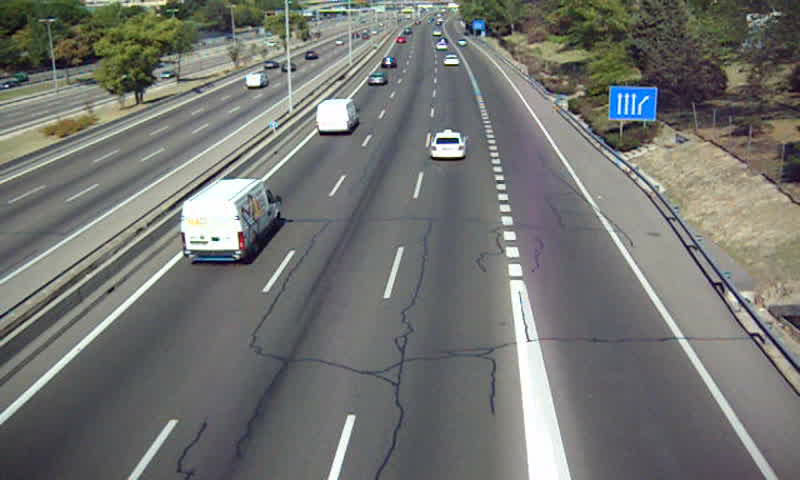car: (430, 132, 467, 161), (366, 73, 387, 88), (380, 54, 396, 70), (442, 54, 460, 68)
van: (181, 178, 284, 263), (315, 98, 359, 133)
